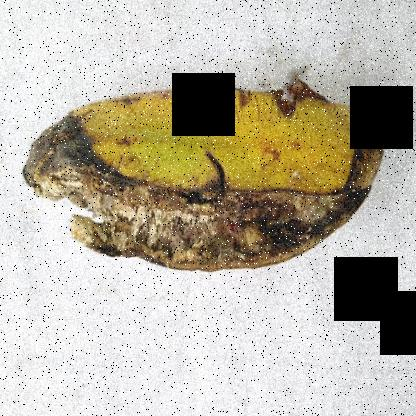rotten: (140, 154, 375, 314), (26, 104, 180, 274)
